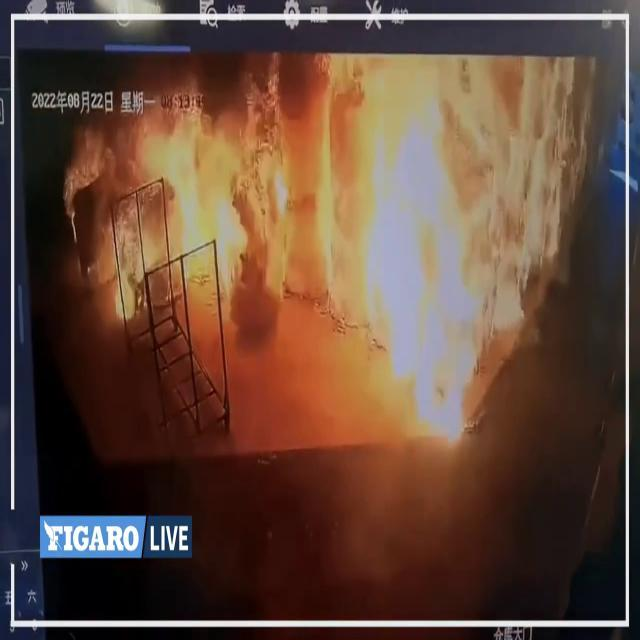Fire: (312, 56, 590, 448), (105, 94, 296, 326)
